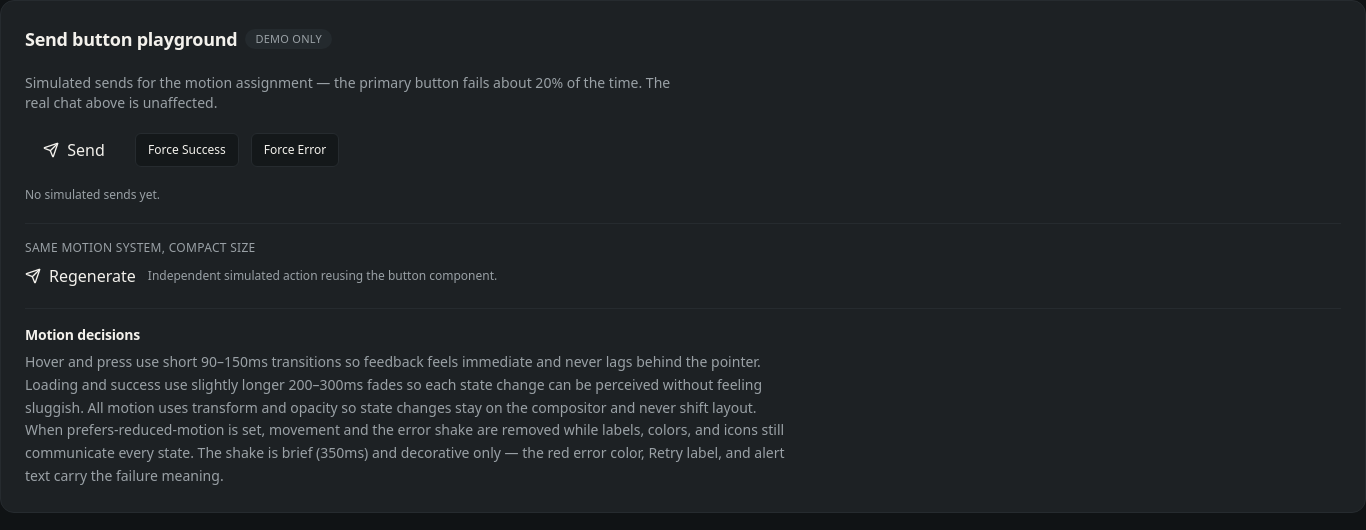
Test: SendButtonDemo › takes the random path's 20% failure branch
The width and height of the screenshot is (1366, 530).
Click the button with aria-label "Run a simulated send": (74, 150) top-left (25, 138), bottom-right (123, 162)
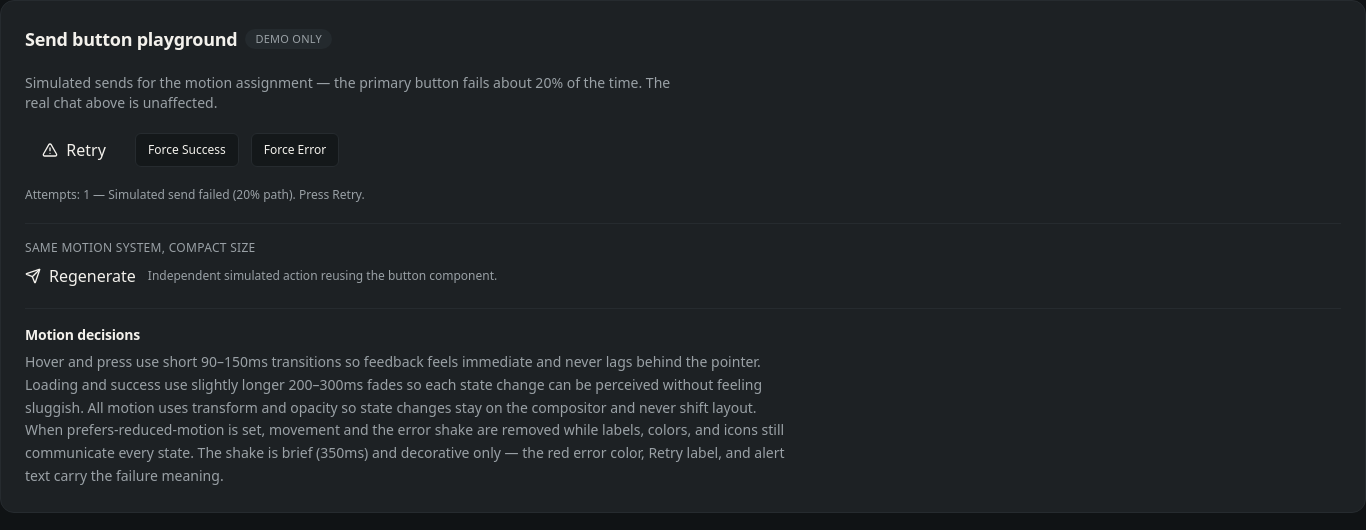
Expected: the button with aria-label "Simulated send failed. Activate to retry." is shown, top-left (25, 138), bottom-right (123, 162)
Expected: the text "Attempts: 1 — Simulated send failed (20% path). Press Retry." is shown, top-left (25, 186), bottom-right (365, 203)
